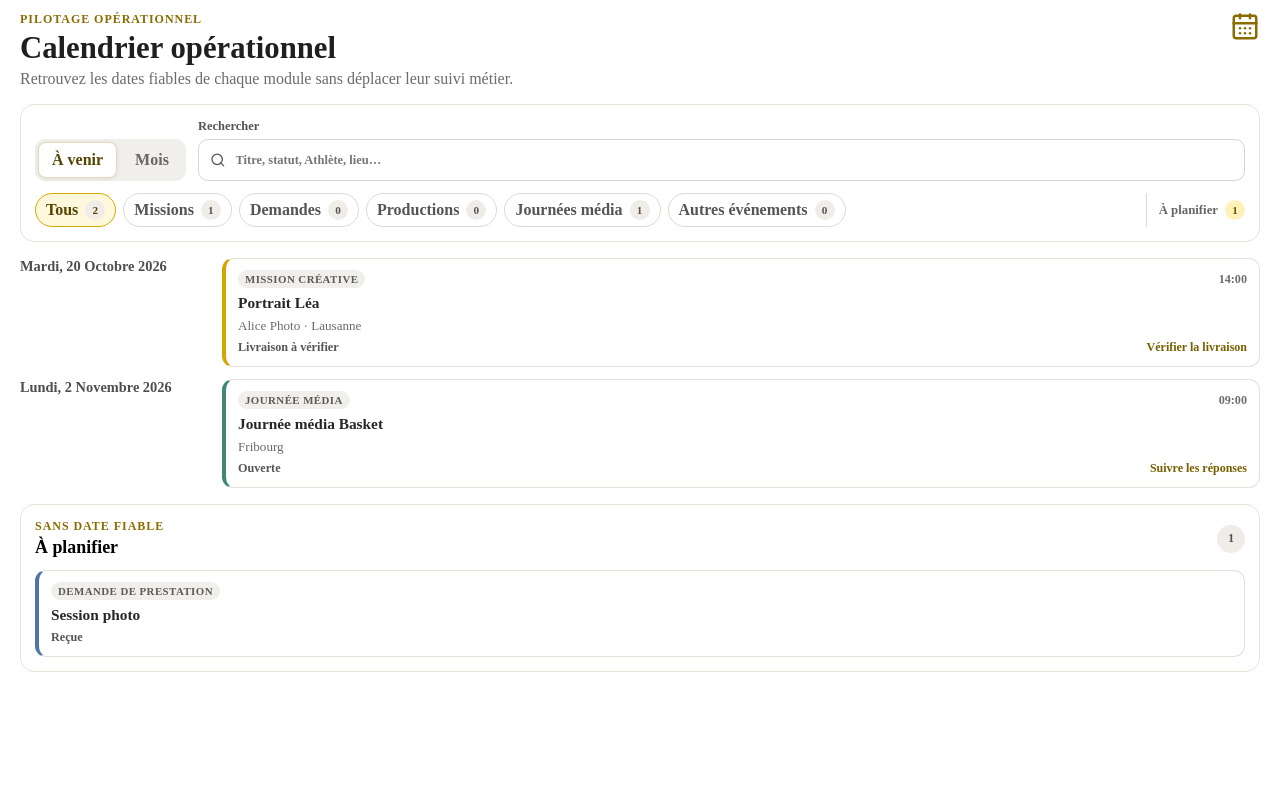
Test case: Admin operational calendar UI › scopes counters to upcoming events and preserves past events in their historical month
Click the button "Mois" at coordinates (152, 160), box [121, 142, 183, 178]
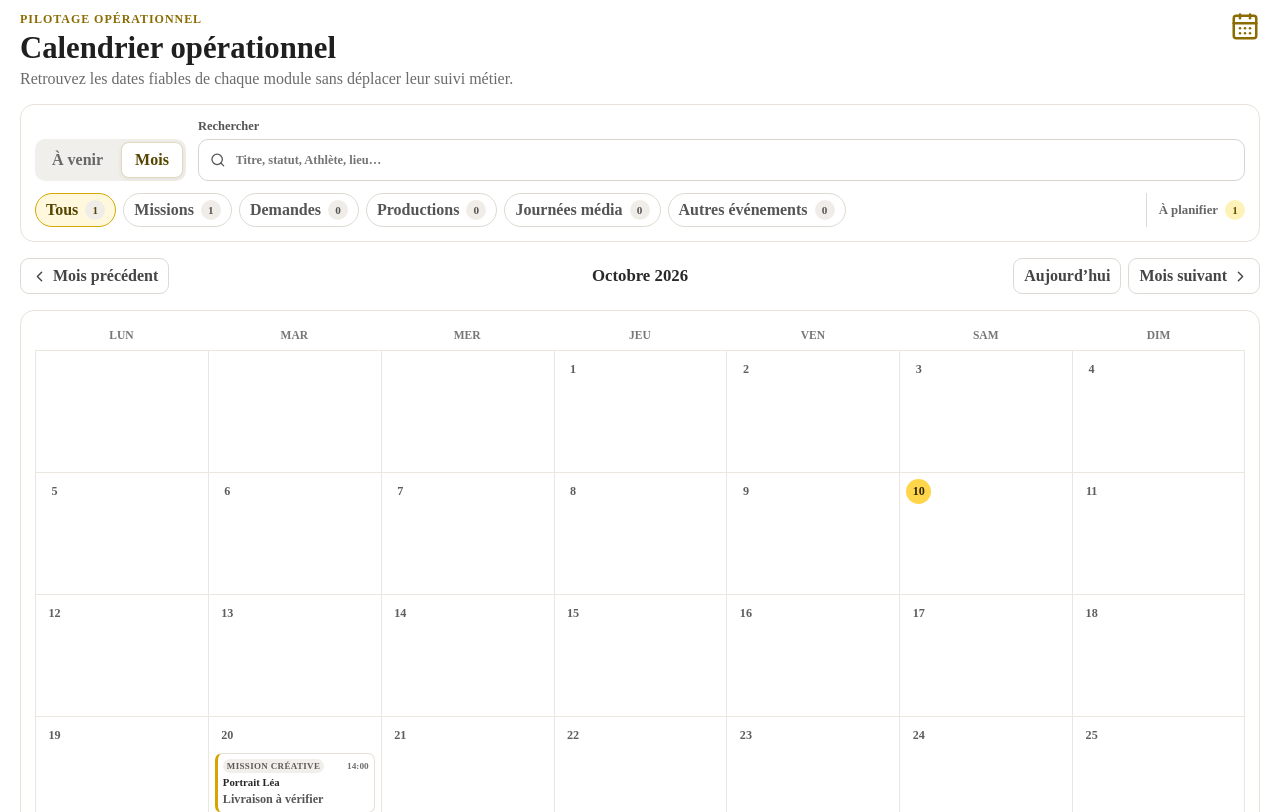
Click the button "Mois précédent" at coordinates (95, 276), box [20, 258, 169, 294]
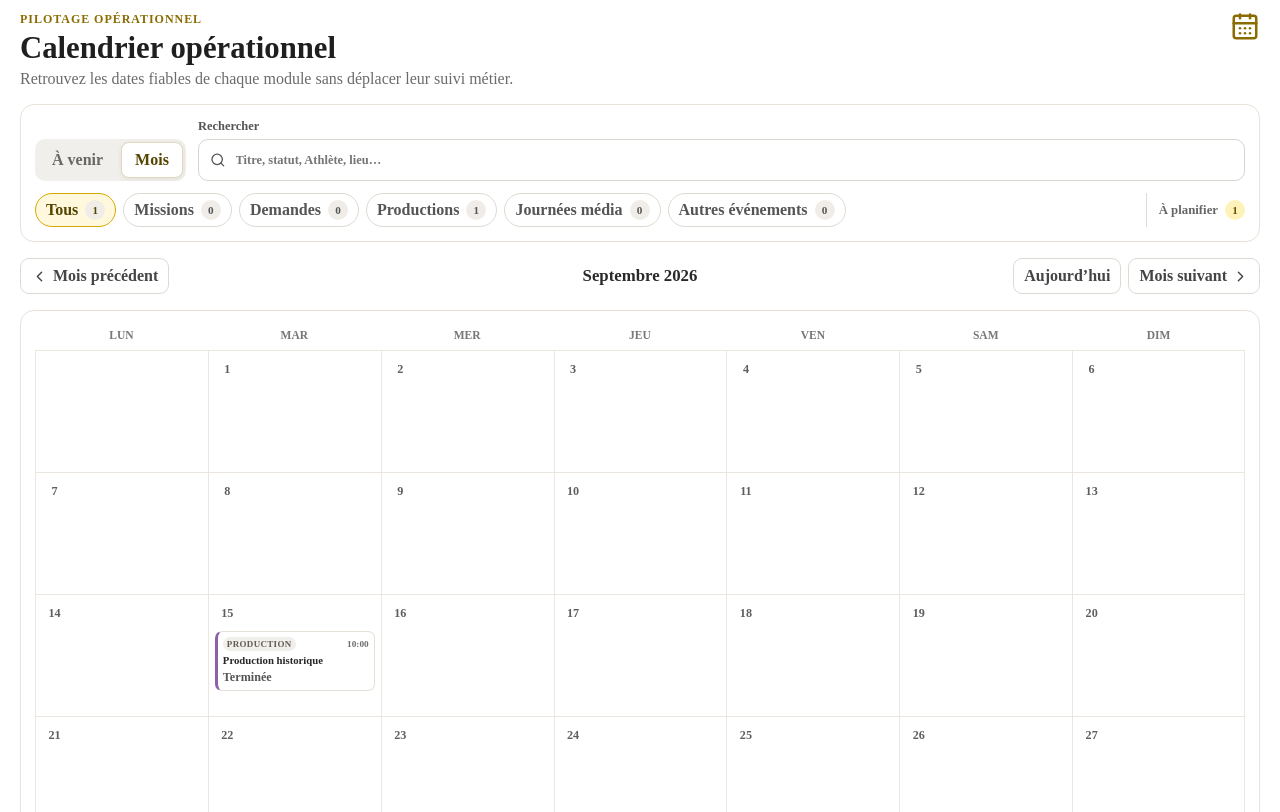
expect the button "Tous 1" is shown: met, box [35, 193, 116, 227]
expect the text "septembre 2026" is shown: met, box [583, 266, 697, 286]
expect the text "Production historique" is shown: met, box [223, 654, 323, 666]
